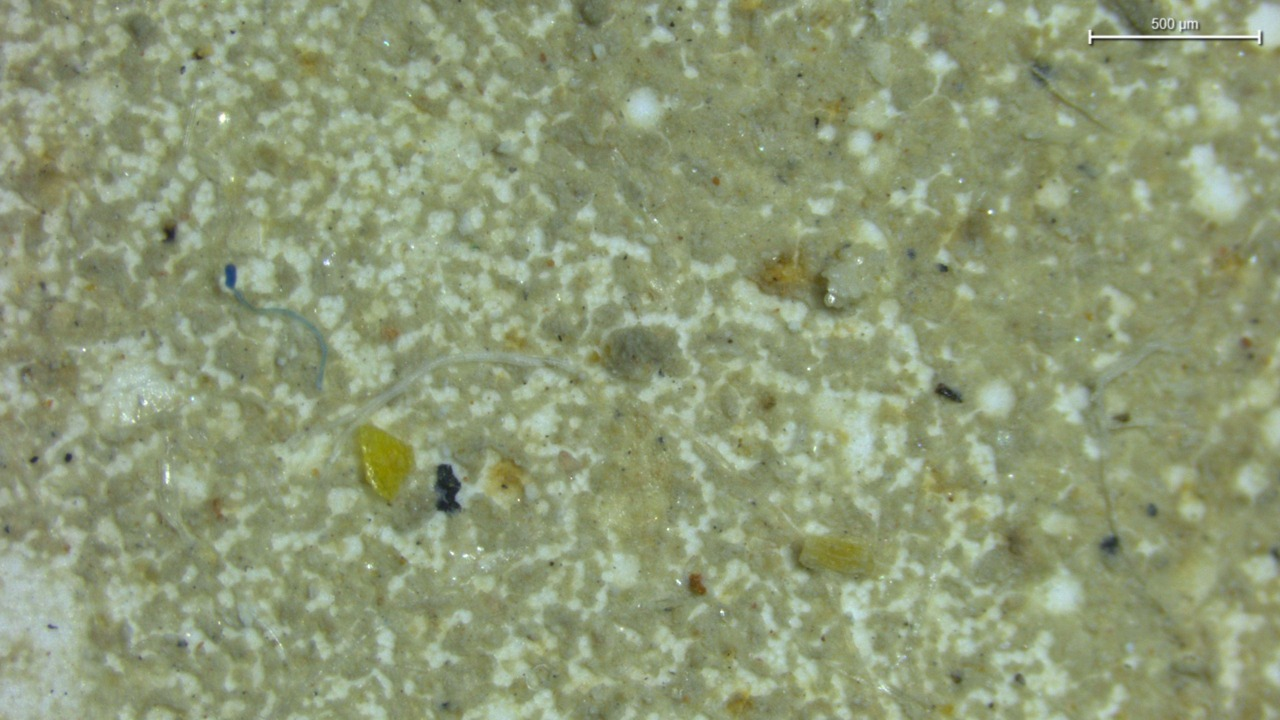microplastic_fragment: (355, 423, 414, 502), (821, 245, 884, 308), (798, 534, 874, 575)
